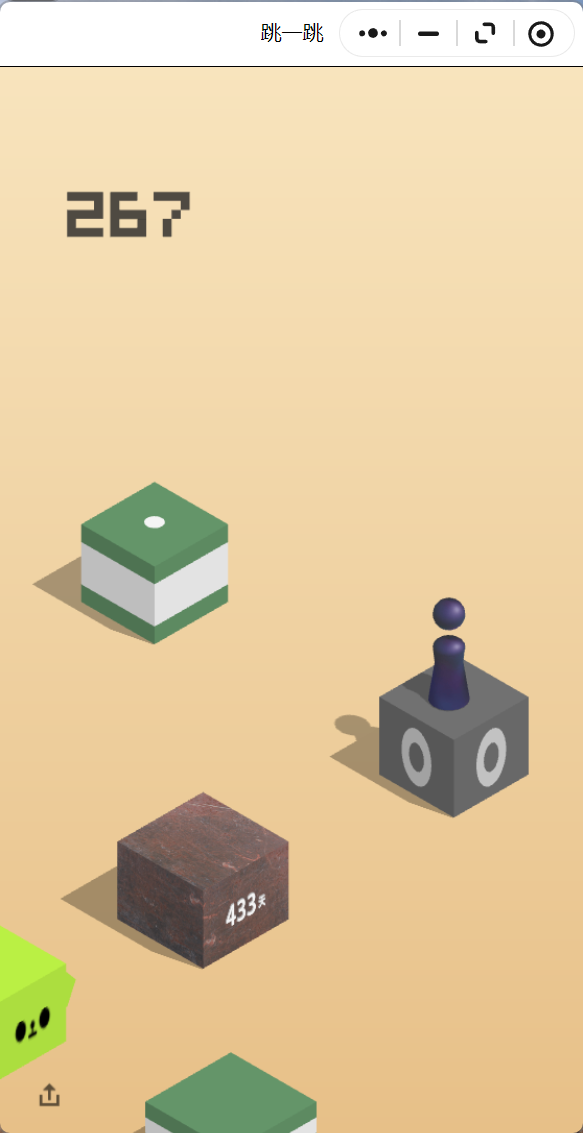piece: (433, 598, 465, 706)
target: (82, 481, 228, 566)
